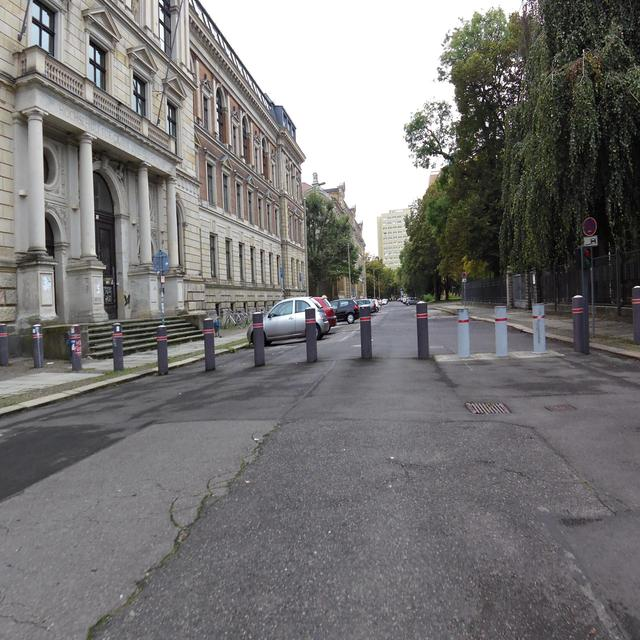Bicycle: (225, 308, 245, 328)
Billboard: (56, 101, 167, 171)
Car: (246, 295, 381, 344)
Manhole: (546, 404, 575, 409)
Trash Can: (213, 317, 219, 336)
Vegetation: (305, 186, 363, 296), (216, 338, 247, 353)
